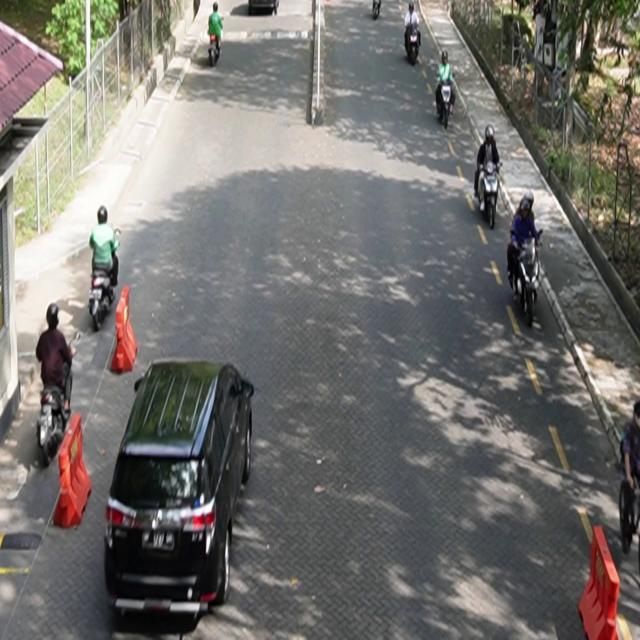car: (104, 358, 255, 632)
